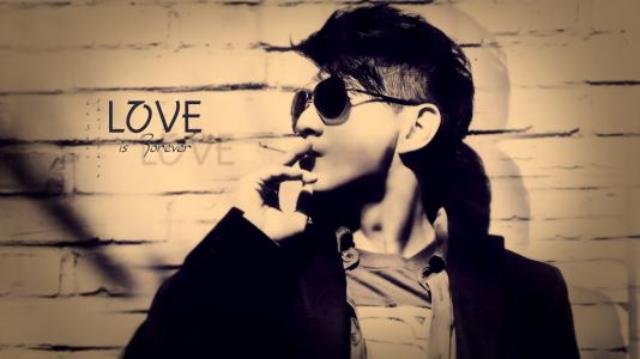Cigarette: (254, 138, 288, 156)
